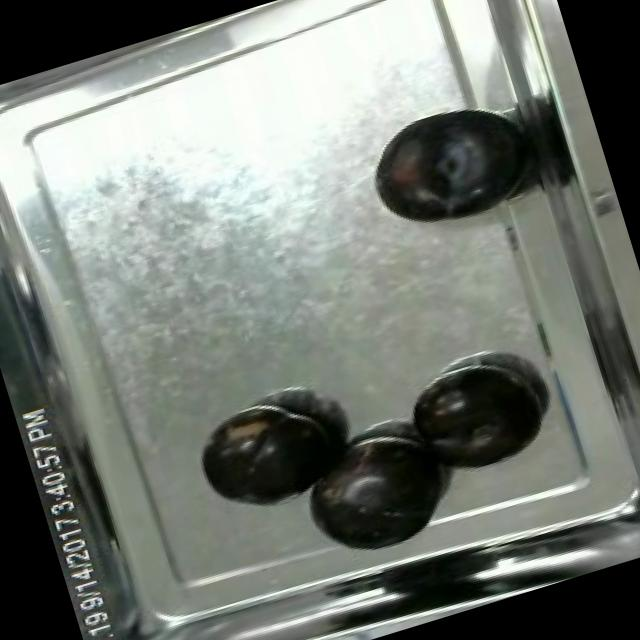Fruit: (350, 82, 544, 248), (291, 412, 463, 567), (184, 386, 352, 526), (392, 348, 550, 486)
